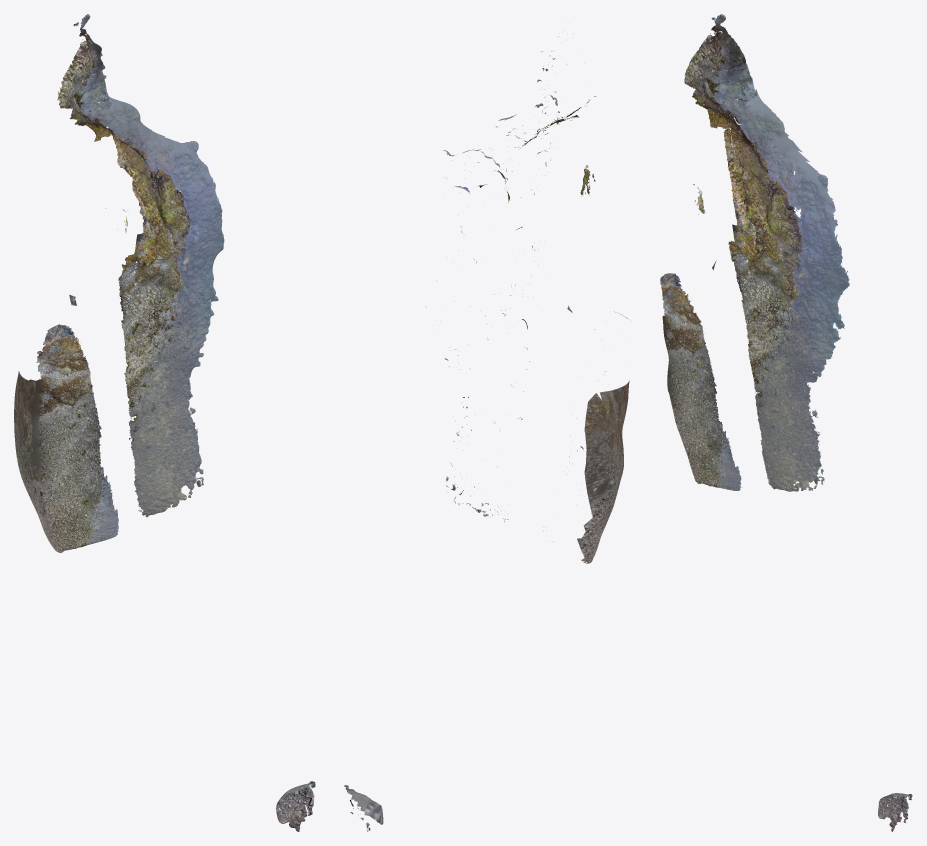
3 views of the same model, side by side, from view 1: azimuth 30°, elevation 25°; view 2: azimuth 150°, elevation 25°; view 3: azimuth 330°, elevation 25° (orthographic). The views are drawn at different scales.
Size of the model in its own units: 20.38 by 58.85 by 7.
19 materials, 19 textured.
